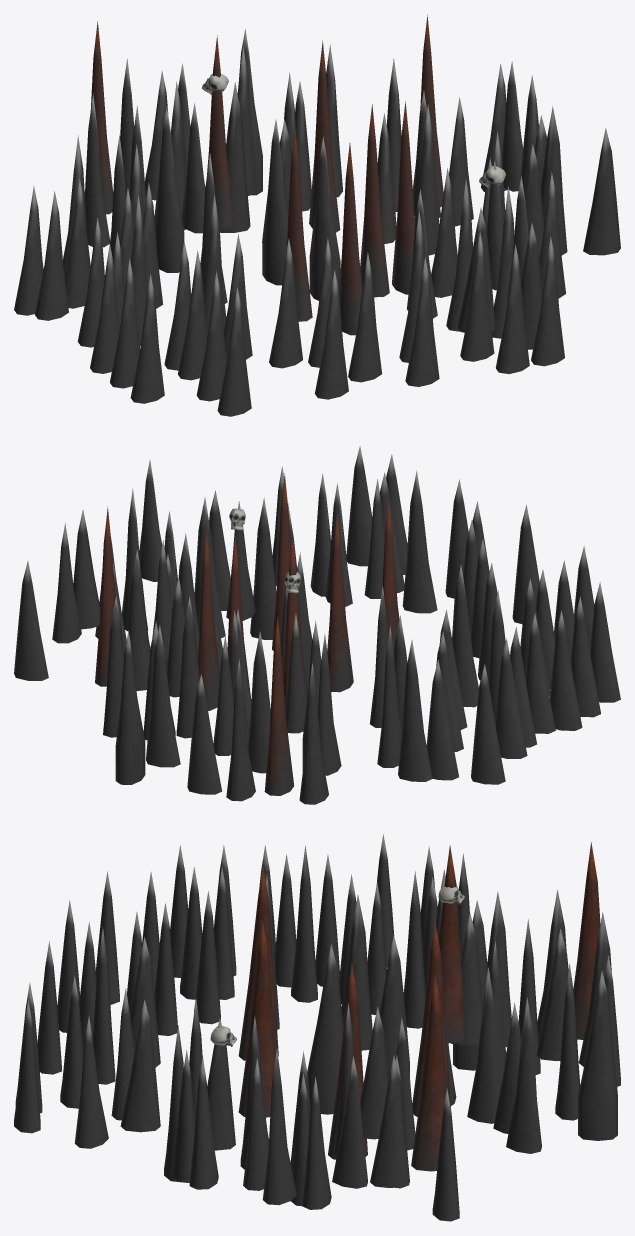
The model's file is needle3.fbx.
3 views of the same model, one above another, from view 1: azimuth 30°, elevation 25°; view 2: azimuth 150°, elevation 25°; view 3: azimuth 270°, elevation 25° (orthographic). The views are drawn at different scales.
Visible parts, largest first — view 1: needle1_1.012; view 2: needle1_1.012; view 3: needle1_1.012.
Part boxes in pixels (bbox=[...]): needle1_1.012: bbox=[14, 14, 620, 416]; needle1_1.012: bbox=[14, 446, 620, 804]; needle1_1.012: bbox=[14, 834, 620, 1221].
Bounding box in the file's own units: 2951 × 1357 × 2916.
